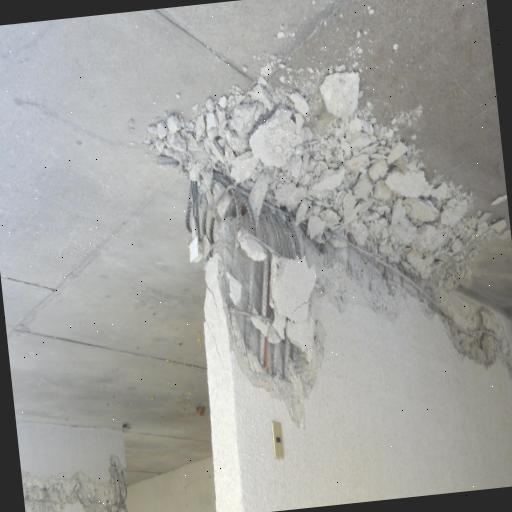spalling: (188, 159, 507, 423), (21, 456, 128, 512)
